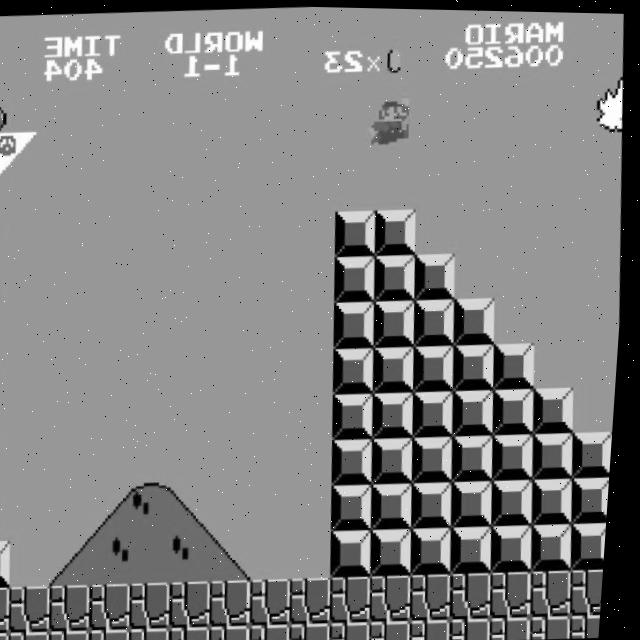11- little_mario: (367, 93, 416, 144)
17- undestructible_block: (415, 571, 461, 620), (375, 572, 421, 621), (215, 578, 261, 627), (175, 579, 221, 628), (135, 580, 181, 629), (95, 582, 141, 631), (536, 567, 581, 616), (496, 568, 541, 617), (336, 573, 381, 622), (296, 575, 341, 624), (15, 585, 60, 634), (456, 570, 501, 618), (256, 577, 301, 625), (55, 584, 100, 632), (575, 565, 611, 613), (537, 612, 580, 638), (497, 614, 540, 639), (457, 615, 500, 640), (417, 616, 460, 640), (0, 586, 20, 635), (377, 618, 420, 640), (337, 619, 380, 640), (296, 621, 340, 640), (576, 611, 609, 636), (256, 622, 300, 640), (216, 623, 260, 640), (176, 625, 219, 640), (136, 626, 179, 640), (96, 627, 139, 640), (56, 629, 99, 640), (16, 630, 59, 640), (0, 631, 19, 640)
7- goal_pole: (0, 266, 20, 315), (0, 312, 20, 361), (0, 403, 20, 452), (0, 83, 20, 131), (0, 129, 20, 177), (0, 175, 20, 223), (0, 358, 20, 406), (0, 449, 20, 497), (0, 495, 20, 543), (0, 221, 19, 269)
9- hard_block: (455, 523, 501, 572), (375, 389, 421, 438), (335, 208, 381, 256), (335, 391, 381, 439), (335, 437, 381, 485), (536, 475, 581, 524), (536, 521, 581, 570), (496, 385, 541, 434), (496, 522, 541, 571), (456, 295, 501, 344), (456, 386, 501, 435), (456, 478, 501, 527), (416, 251, 461, 300), (416, 388, 461, 437), (416, 479, 461, 528), (416, 525, 461, 574), (376, 252, 421, 301), (376, 298, 421, 347), (376, 481, 421, 530), (376, 526, 421, 575), (336, 299, 381, 348), (336, 482, 381, 531), (336, 528, 381, 577), (415, 343, 461, 390), (536, 384, 581, 432), (536, 430, 581, 478), (496, 339, 541, 387), (496, 431, 541, 479), (496, 477, 541, 525), (456, 341, 501, 389), (456, 432, 501, 480), (416, 297, 461, 345), (376, 207, 421, 255), (376, 344, 421, 392), (376, 435, 421, 483), (336, 254, 381, 302), (336, 345, 381, 393), (416, 434, 461, 481), (576, 428, 618, 476), (575, 474, 616, 522), (576, 519, 613, 567), (0, 540, 20, 589)
